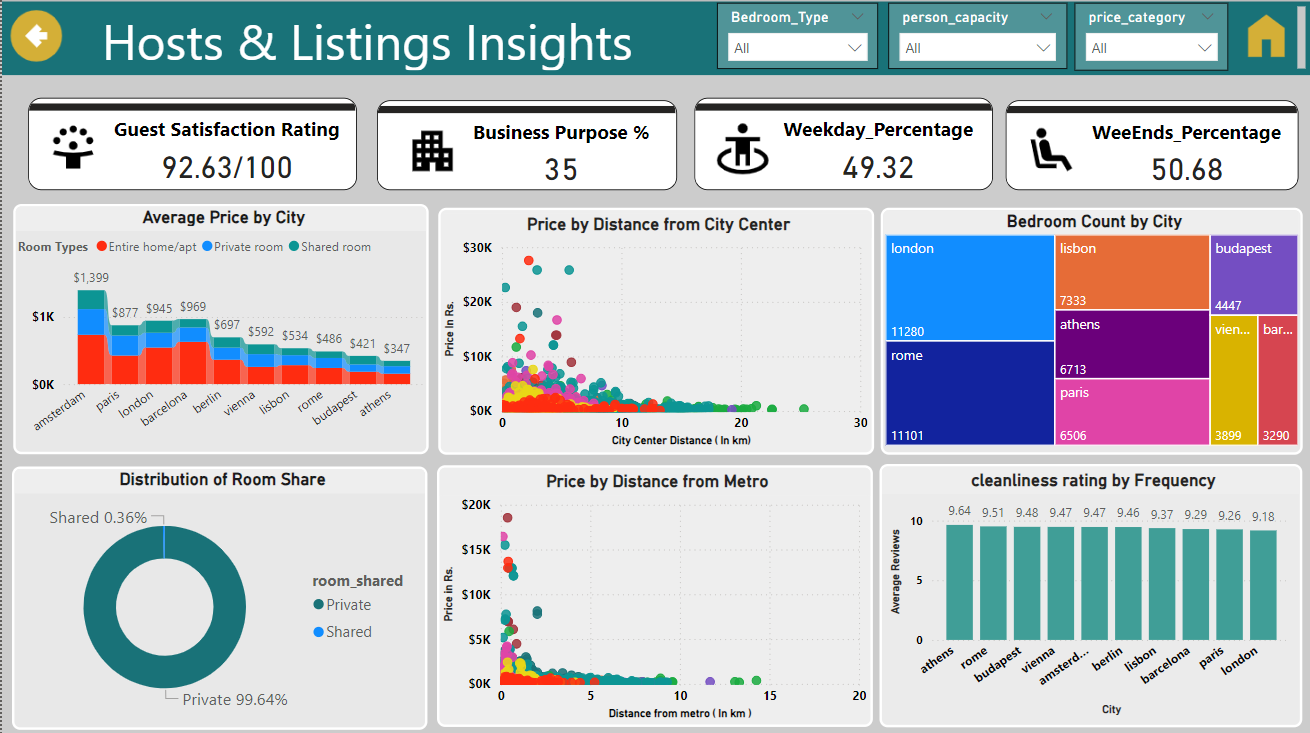

The page's visual inventory and layout, read from the dashboard file:
{"tool":"powerbi","page":{"name":"Hosts & Listings Insights","canvas":[1280,720],"ordinal":2},"visuals":[{"type":"scatterChart","title":"Price by Distance from City Center ","fields":{"Y":["Sum(airbnb_eu.realSum)"],"Series":["airbnb_eu.City"],"X":["airbnb_eu.city_cntr_dist"]},"box":[426.2,203.8,426.2,241.2],"z":0},{"type":"textbox","box":[0,2.4,1280.3,72.1],"z":1000},{"type":"treemap","title":"Bedroom Count by City","fields":{"Group":["airbnb_eu.City"],"Values":["Sum(airbnb_eu.bedrooms)"]},"box":[860,203.8,412.5,241.2],"z":2000},{"type":"donutChart","title":"Distribution of Room Share","fields":{"Category":["airbnb_eu.room_shared"],"Y":["Divide(Sum(airbnb_eu.realSum), ScopedEval(Sum(airbnb_eu.realSum), []))"]},"box":[10,457.5,406.2,257.5],"z":3000},{"type":"scatterChart","title":"Price by Distance from Metro","fields":{"X":["airbnb_eu.metro_dist"],"Y":["airbnb_eu.realSum"],"Series":["airbnb_eu.City"]},"box":[425,456.2,426.2,256.2],"z":4000},{"type":"cardVisual","title":"Average satisfaction level","fields":{"Data":["airbnb_eu.Avg_of_guest_satisfaction"]},"box":[25.7,96.6,321.6,90.5],"z":5000},{"type":"cardVisual","title":"Average satisfaction level","fields":{"Data":["airbnb_eu.Business Purpose Percentage"]},"box":[366.8,99,293.5,88],"z":6000},{"type":"cardVisual","title":"Average satisfaction level","fields":{"Data":["airbnb_eu.Satisfaction_Price_Ratio"]},"box":[677.4,96.6,292.3,90.5],"z":7000},{"type":"slicer","fields":{"Values":["airbnb_eu.price_category"]},"box":[1049.2,3.7,150.4,66],"z":8000},{"type":"cardVisual","title":"Average price per night","fields":{"Data":["airbnb_eu.WeeEnds_Percentage"]},"box":[981.9,99,286.1,88],"z":9000},{"type":"columnChart","title":"Average Price by  City","fields":{"Category":["airbnb_eu.City"],"Series":["airbnb_eu.room_type"],"Y":["Avg(airbnb_eu.realSum)"]},"box":[11.2,200,406.2,245],"z":10000},{"type":"columnChart","title":"cleanliness rating by  Frequency","fields":{"Category":["airbnb_eu.City"],"Y":["Avg(airbnb_eu.cleanliness_rating)"]},"box":[858.8,455,413.8,257.5],"z":11000},{"type":"slicer","fields":{"Values":["airbnb_eu.Bedroom_Type"]},"box":[699.5,3.7,157.7,64.8],"z":12000},{"type":"slicer","title":"Select person capacity","fields":{"Values":["airbnb_eu.person_capacity"]},"box":[867,3.7,174.9,64.8],"z":13000},{"type":"image","box":[1205.7,4.9,62.4,62.4],"z":14000},{"type":"shape","box":[15.9,20.8,34.2,30.6],"z":15000},{"type":"image","box":[0,2.4,67.3,67.3],"z":16000}]}

Visuals, with their boxes in screenshot pixels (x1, y1, x2, y2), scaled from the page's 1280x720 canvas onto the 1310x733 screenshot:
"Price by Distance from City Center " scatterChart: [436,207,872,453]
textbox: [0,2,1309,76]
"Bedroom Count by City" treemap: [880,207,1302,453]
"Distribution of Room Share" donutChart: [10,466,426,728]
"Price by Distance from Metro" scatterChart: [435,464,871,725]
"Average satisfaction level" cardVisual: [26,98,355,190]
"Average satisfaction level" cardVisual: [375,101,676,190]
"Average satisfaction level" cardVisual: [693,98,992,190]
slicer - airbnb_eu.price_category: [1074,4,1228,71]
"Average price per night" cardVisual: [1005,101,1298,190]
"Average Price by  City" columnChart: [11,204,427,453]
"cleanliness rating by  Frequency" columnChart: [879,463,1302,725]
slicer - airbnb_eu.Bedroom_Type: [716,4,877,70]
"Select person capacity" slicer: [887,4,1066,70]
image: [1234,5,1298,69]
shape: [16,21,51,52]
image: [0,2,69,71]
